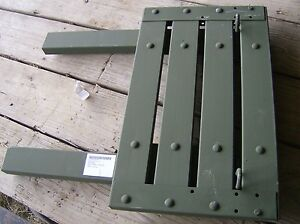hole: (233, 208, 240, 215), (189, 189, 195, 196), (255, 192, 261, 198), (234, 191, 240, 197), (199, 16, 205, 21), (248, 15, 253, 21), (233, 7, 238, 11)
rivet: (208, 199, 221, 212), (255, 145, 267, 156), (164, 198, 176, 209), (121, 194, 133, 205), (170, 141, 181, 152), (252, 207, 264, 217), (129, 140, 141, 150), (251, 42, 262, 52), (213, 144, 224, 154), (179, 42, 191, 51), (145, 41, 156, 50), (215, 42, 226, 51), (182, 7, 192, 16), (214, 7, 225, 15), (150, 9, 160, 16)
